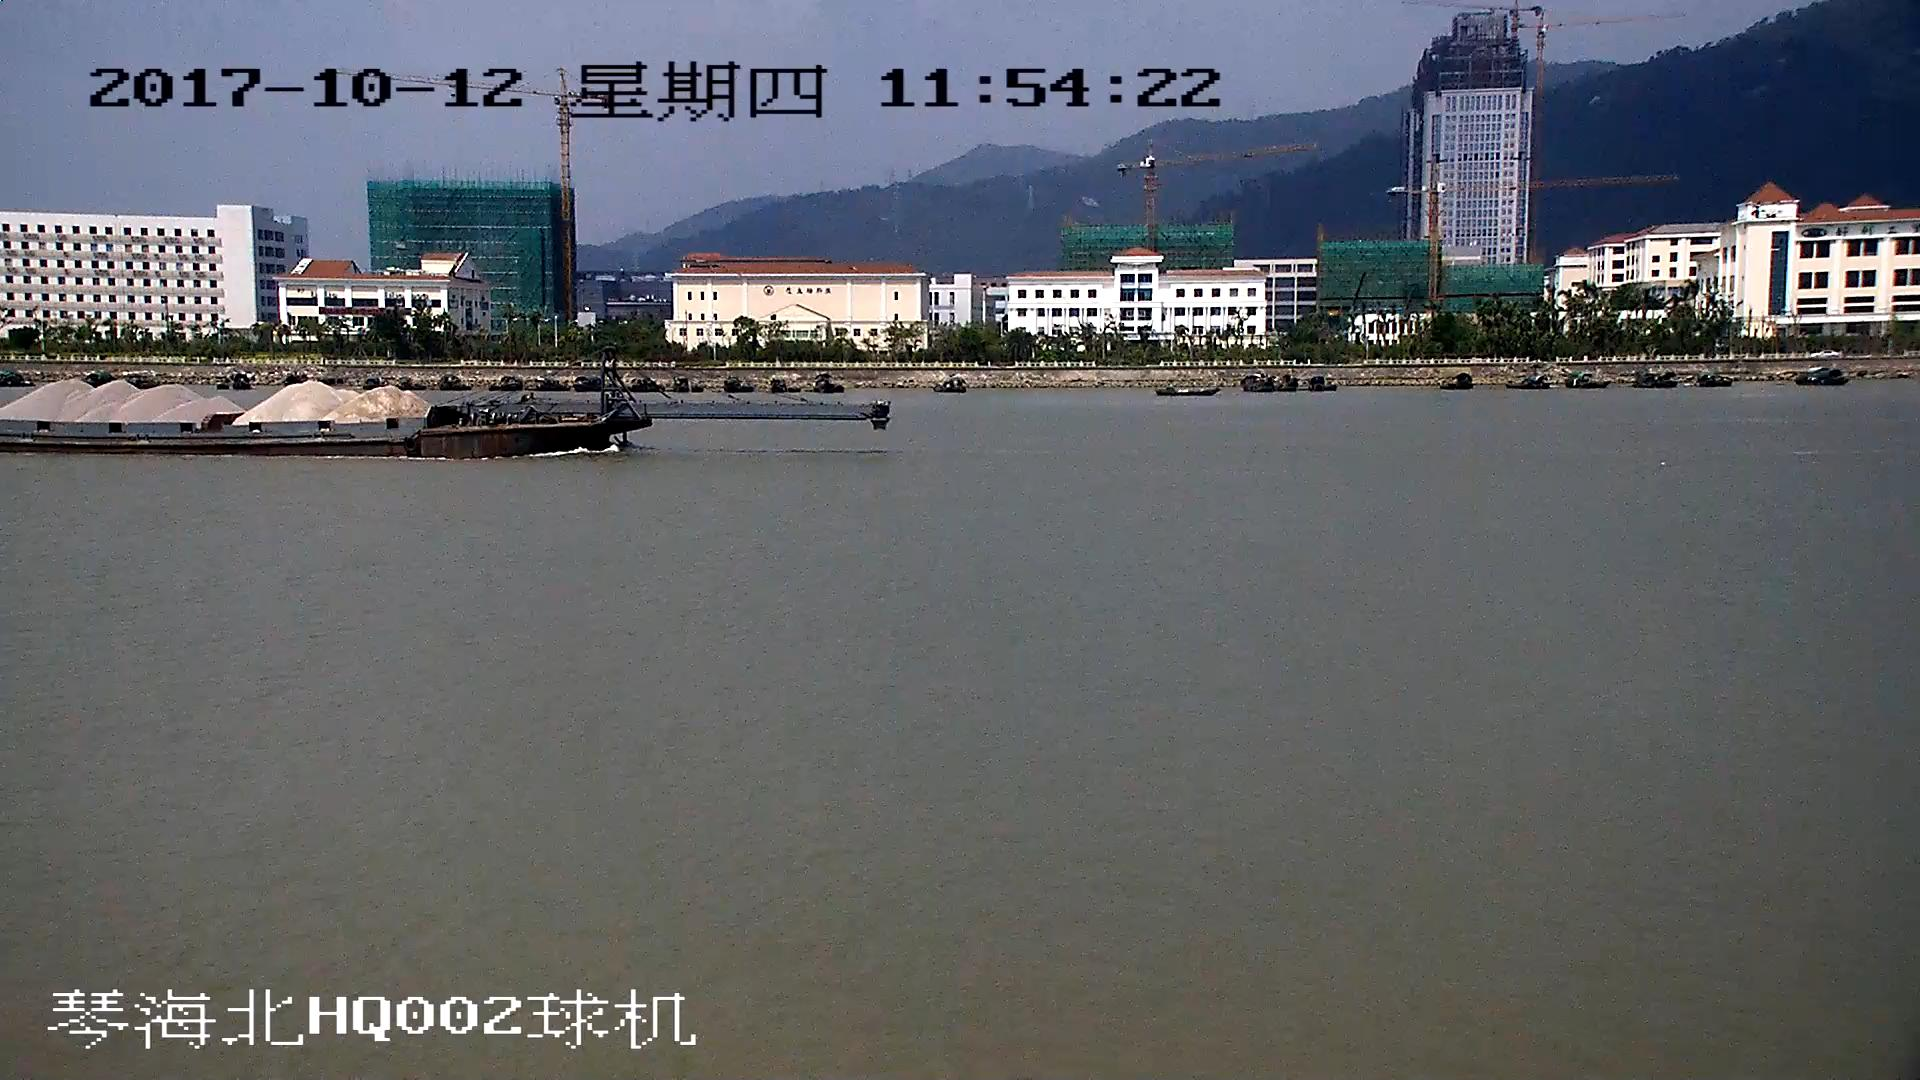ore carrier: (1, 344, 880, 460)
